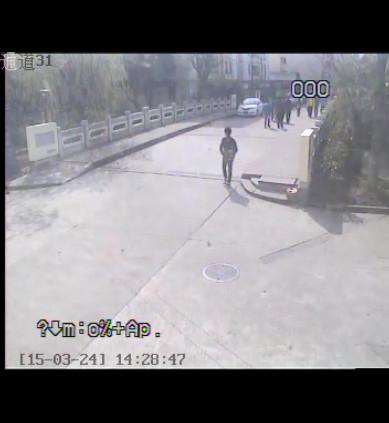person: (219, 126, 239, 184), (273, 98, 286, 134), (258, 99, 273, 130), (283, 95, 296, 124), (307, 96, 314, 121), (295, 99, 302, 121)
